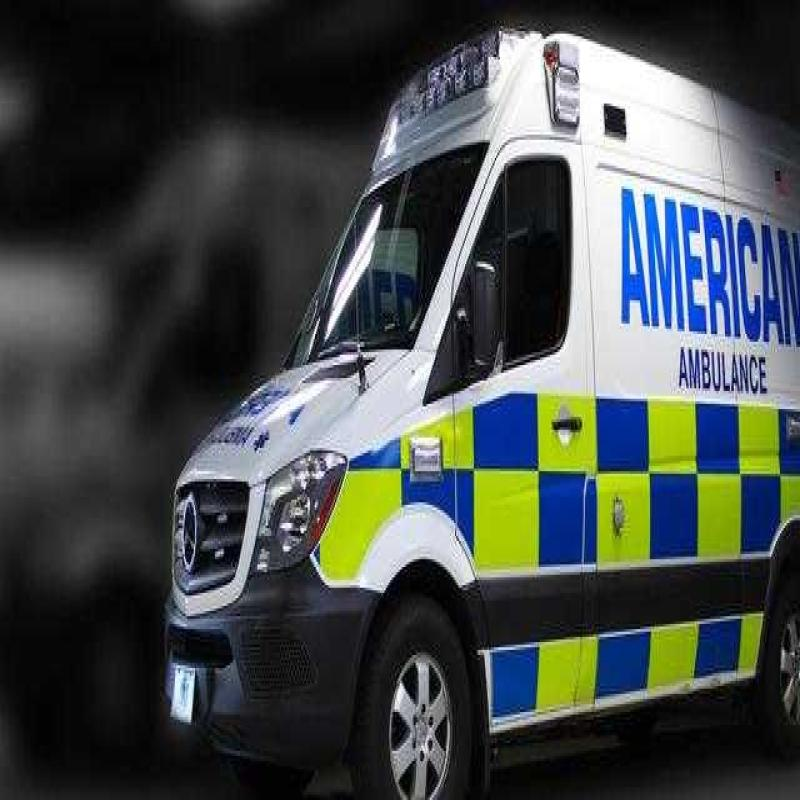AmbulanceSiren: (358, 19, 519, 145)
